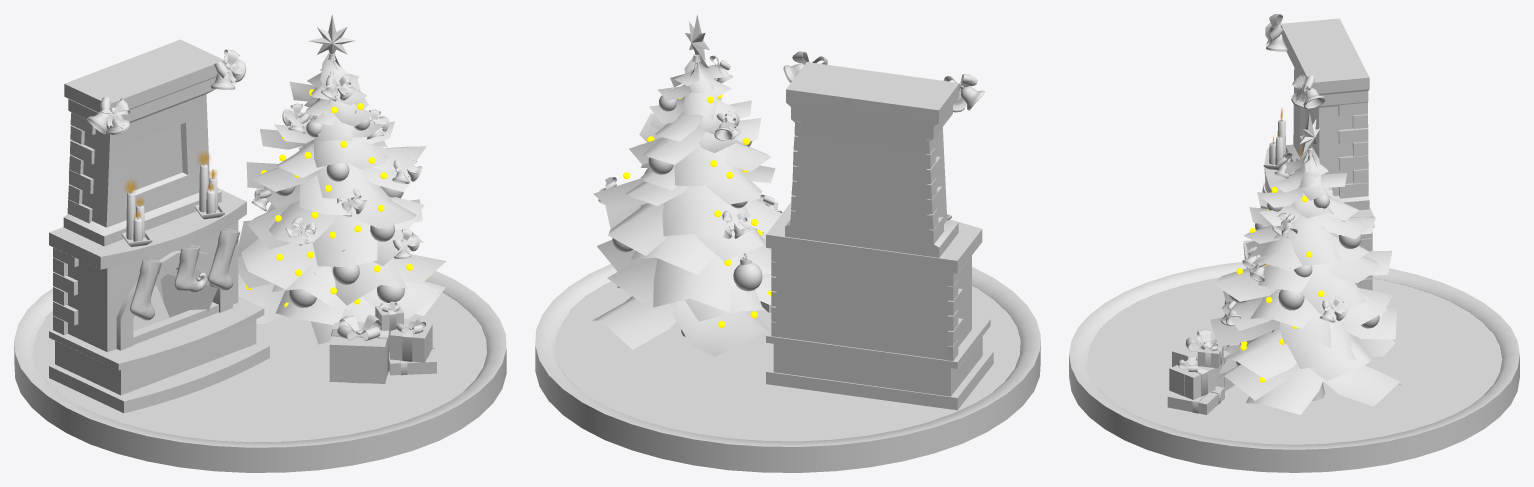
File: christmas-props.-dracogltf.gltf
3 renders of one model, left to right at view 1: azimuth 30°, elevation 25°; view 2: azimuth 150°, elevation 25°; view 3: azimuth 270°, elevation 25°, orthographic. The views are drawn at different scales.
Visible parts, largest first — view 1: Fireplace_Fireplace_0, Pine tree_Tree_0, Cylinder_Floor_0, Box 1_Box 1_0, Bows red_Bow red_0, Bells_Bells_0, Socks red_Sock red_0, Fire_Fire_0, Balls red_Balls red_0, Candles_Candles_0, Sock green_Sock green_0, Box 3_Box 3_0 (+2 smaller); view 2: Fireplace_Fireplace_0, Pine tree_Tree_0, Cylinder_Floor_0, Bells_Bells_0, Balls red_Balls red_0, Bows red_Bow red_0, Star_Star_0; view 3: Cylinder_Floor_0, Fireplace_Fireplace_0, Pine tree_Tree_0, Box 1_Box 1_0, Bells_Bells_0, Bows red_Bow red_0, Box 3_Box 3_0, Balls yellow_Balls yellow_0, Balls red_Balls red_0, Candles_Candles_0.
Boxes of the visible parts, x1,y1,x2,y2 form: Fireplace_Fireplace_0: (14,39,506,472); Pine tree_Tree_0: (238,52,446,344); Cylinder_Floor_0: (34,274,486,442); Box 1_Box 1_0: (329,301,432,383); Bows red_Bow red_0: (100,49,417,253); Bells_Bells_0: (87,59,422,259); Socks red_Sock red_0: (130,229,240,320); Fire_Fire_0: (133,268,217,331); Balls red_Balls red_0: (274,116,404,307); Candles_Candles_0: (126,163,217,241); Sock green_Sock green_0: (174,245,206,292); Box 3_Box 3_0: (389,342,436,375); Fireplace_Fireplace_0: (535,62,1040,472); Pine tree_Tree_0: (592,53,781,356); Cylinder_Floor_0: (555,281,1020,441); Bells_Bells_0: (598,63,984,238); Balls red_Balls red_0: (612,111,762,291); Bows red_Bow red_0: (604,51,977,230); Star_Star_0: (685,15,709,62); Cylinder_Floor_0: (1087,278,1501,444); Fireplace_Fireplace_0: (1069,18,1519,472); Pine tree_Tree_0: (1210,146,1401,414); Box 1_Box 1_0: (1169,329,1237,399); Bells_Bells_0: (1220,22,1348,326); Bows red_Bow red_0: (1222,14,1343,319); Box 3_Box 3_0: (1167,386,1224,414); Balls yellow_Balls yellow_0: (1224,188,1361,310); Balls red_Balls red_0: (1228,220,1379,365); Candles_Candles_0: (1269,119,1300,165).
Bounding box in the file's own units: 3.52 × 2.6 × 3.52.
17 materials, 1 textured.
